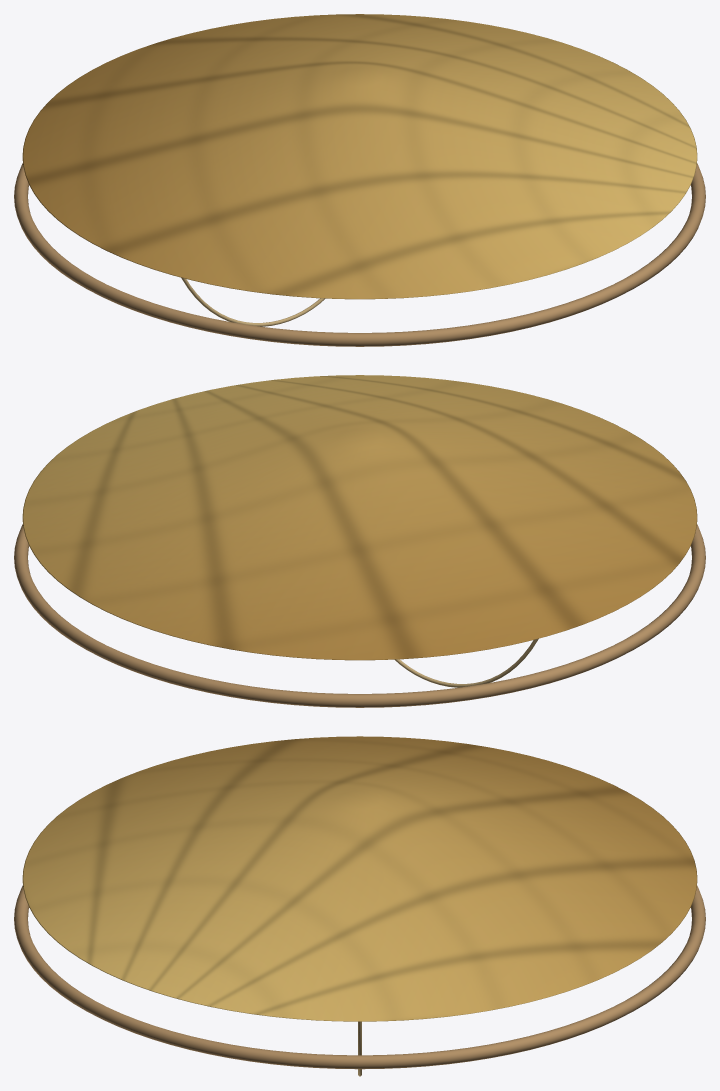
File: non_la.glb
The picture shows the model from 3 angles, top to bottom: view 1: azimuth 30°, elevation 25°; view 2: azimuth 150°, elevation 25°; view 3: azimuth 270°, elevation 25°; orthographic projection.
Parts seen in each view (by area): view 1: Non_La, Non_La_Rim, String_Left; view 2: Non_La, Non_La_Rim, String_Left; view 3: Non_La, Non_La_Rim.
Boxes of the visible parts, x1,y1,x2,y2 form: Non_La: (22,14,697,299); Non_La_Rim: (14,163,705,346); String_Left: (181,277,324,326); Non_La: (22,375,697,660); Non_La_Rim: (14,524,705,707); String_Left: (395,638,538,687); Non_La: (22,736,697,1021); Non_La_Rim: (14,885,705,1069).
Size of the model in its own units: 3.16 by 1.14 by 3.16.
3 materials, 1 textured.
